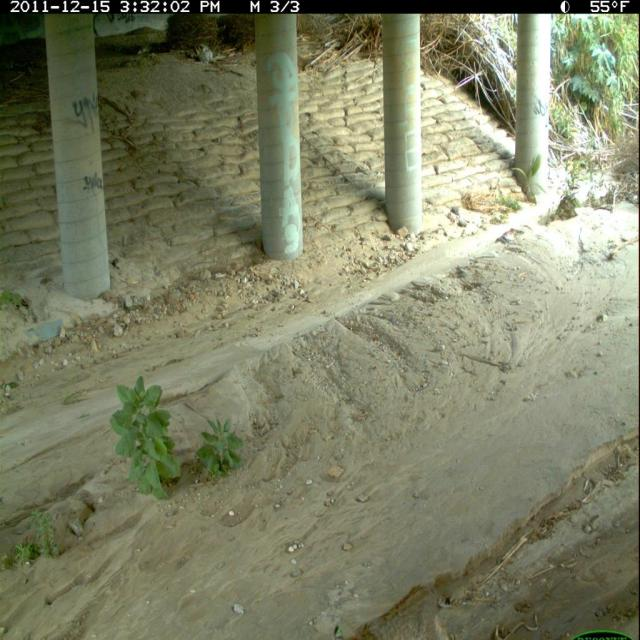bobcat: (332, 580, 460, 640)
